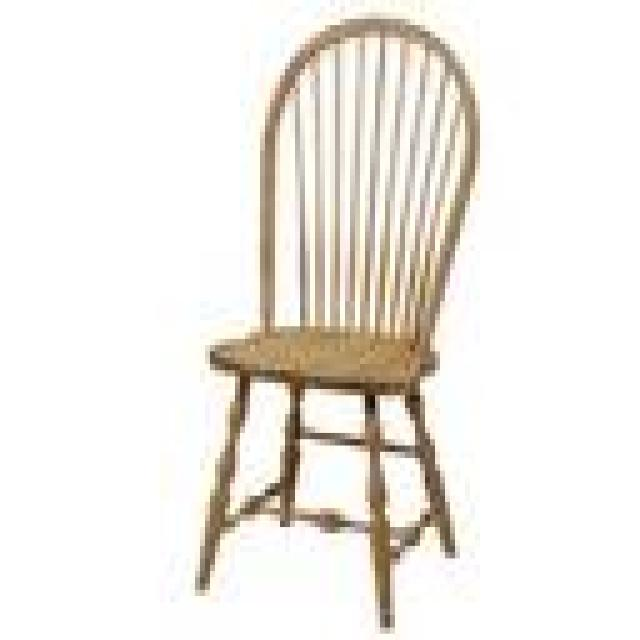chair: (190, 6, 480, 628)
